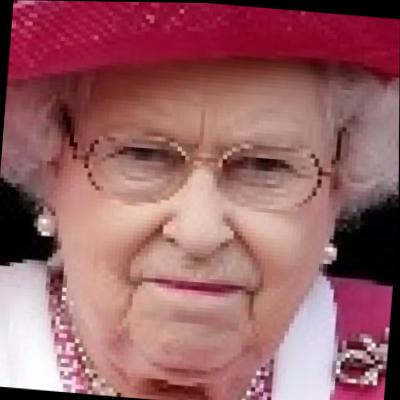angry: (54, 53, 335, 379)
